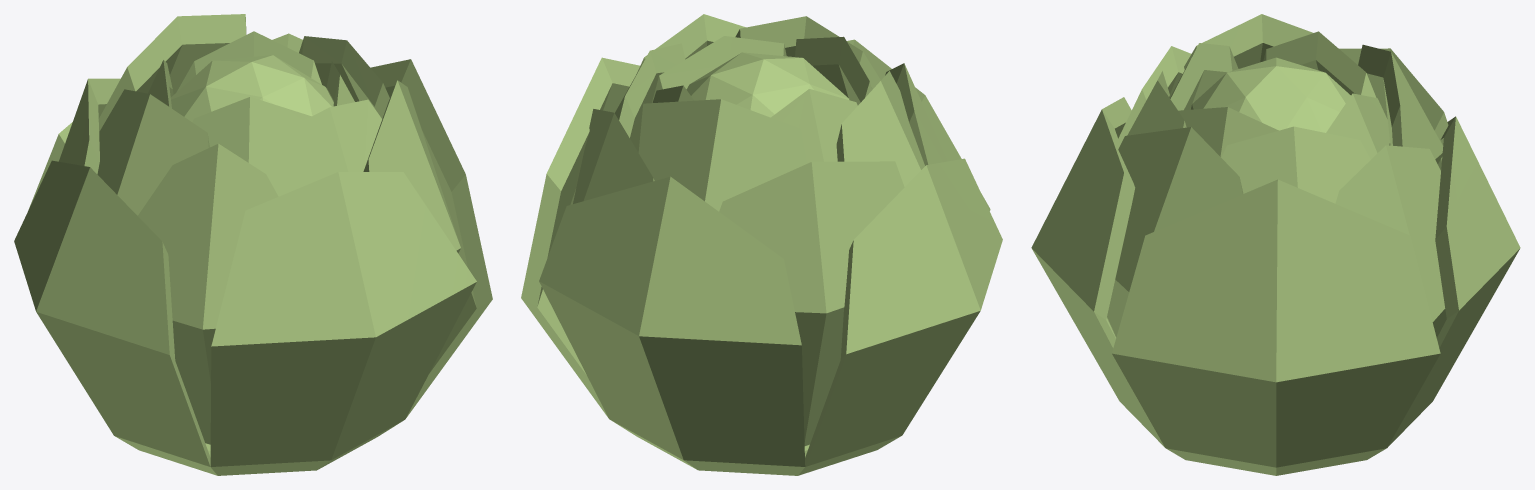
The model's file is cabbage.gltf.
The picture shows the model from 3 angles, left to right: view 1: azimuth 30°, elevation 25°; view 2: azimuth 150°, elevation 25°; view 3: azimuth 270°, elevation 25°; orthographic projection. The views are drawn at different scales.
Visible parts, largest first — view 1: Cabbage_Circle.013; view 2: Cabbage_Circle.013; view 3: Cabbage_Circle.013.
Part boxes in pixels (left/top/right/bottom): Cabbage_Circle.013: left=14, top=14, right=492, bottom=475; Cabbage_Circle.013: left=521, top=14, right=1002, bottom=475; Cabbage_Circle.013: left=1031, top=14, right=1520, bottom=475.
Size of the model in its own units: 0.1336 by 0.1131 by 0.1326.
